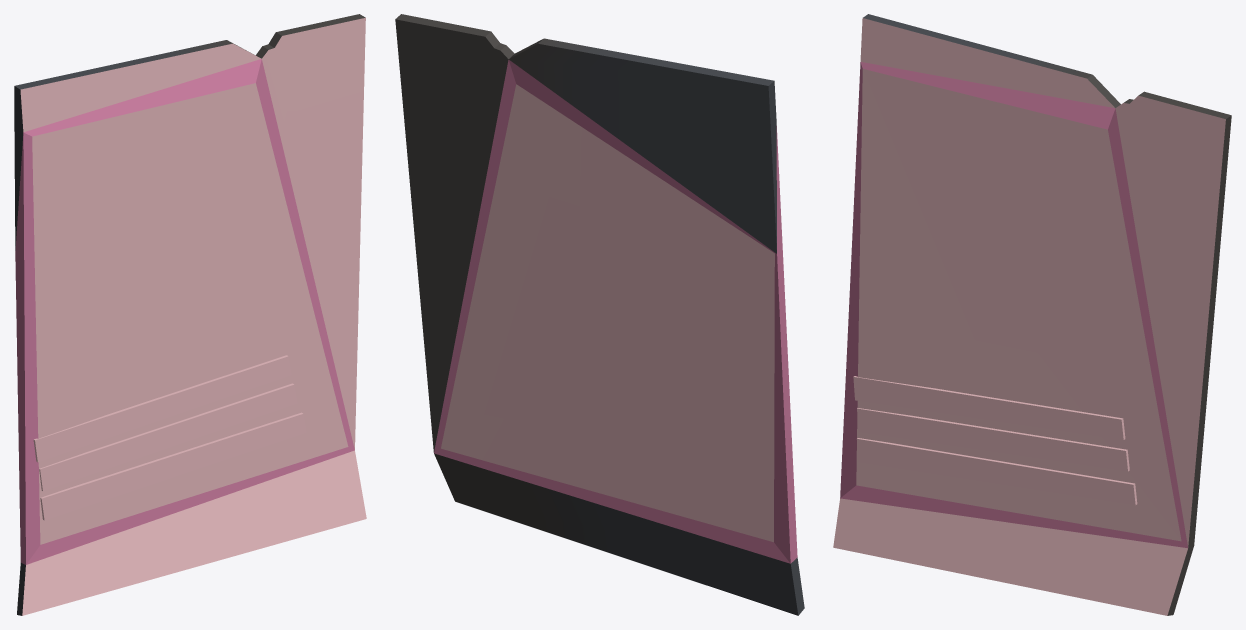
File: animal_billboard003.glb
3 views of the same model, side by side, from view 1: azimuth 30°, elevation 25°; view 2: azimuth 150°, elevation 25°; view 3: azimuth 330°, elevation 25° (orthographic). The views are drawn at different scales.
Parts seen in each view (by area): view 1: Art_posters_05; view 2: Art_posters_05; view 3: Art_posters_05.
Boxes of the visible parts, left/top/right/bottom form: Art_posters_05: left=14, top=14, right=366, bottom=615; Art_posters_05: left=395, top=14, right=804, bottom=615; Art_posters_05: left=833, top=14, right=1231, bottom=615.
Size of the model in its own units: 2.31 by 3.12 by 0.3858.
Materials: 1 (1 with a texture image).
